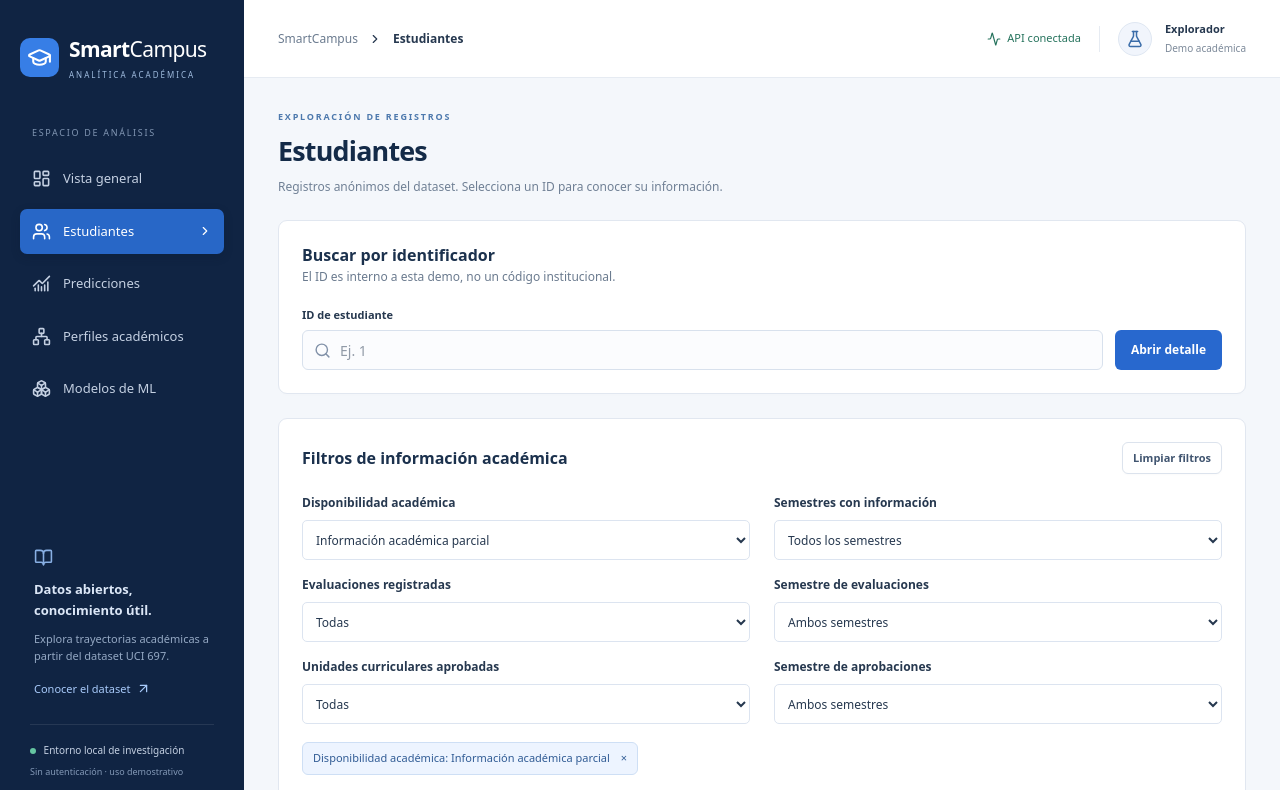
Test case: muestra conteos globales, estado vacío, filtros activos y limpia sin inventar datos
Expected: the button with aria-label "Quitar filtro Disponibilidad académica" is shown, [302,742,638,775]
Step 1. Click the button "Limpiar filtros" → [1172, 458], box [1122,442,1222,474]
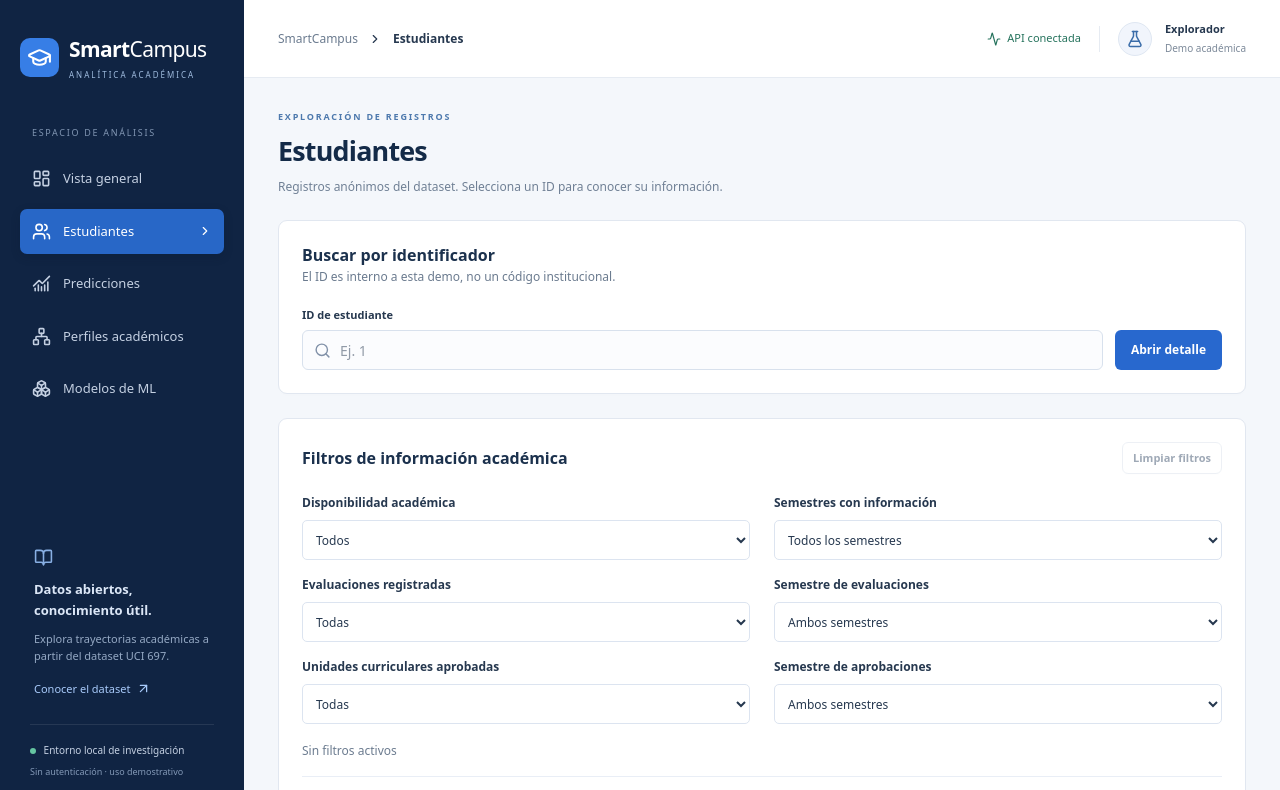
Result: the text "Sin filtros activos" is shown at [302,742,397,760]
